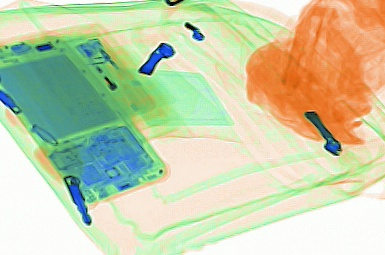lighter: (74, 34, 158, 122)
